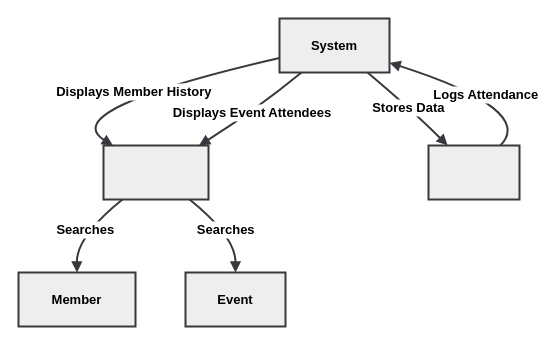
This 556x344 diagram has some shape labels left out. Here are the shapes that lost their labels. From the top down, the centre of each, then its label:
(155,172): Admin
(473,172): Visit
